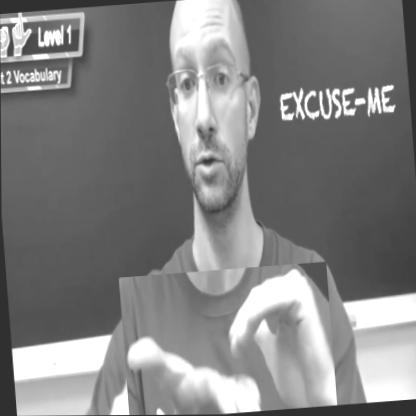ExcuseMe: (118, 262, 336, 415)
